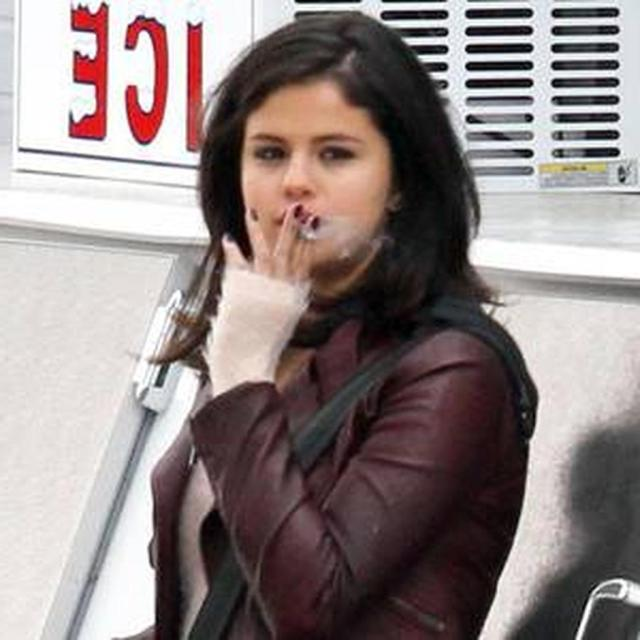smoking: (224, 59, 409, 312)
